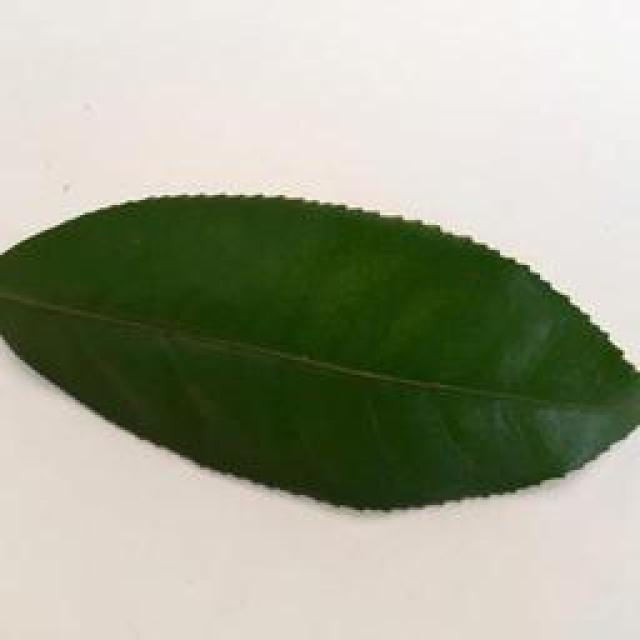Healthy: (2, 189, 640, 516)
